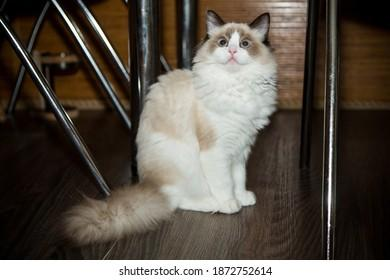ragdoll: (191, 2, 282, 92)
